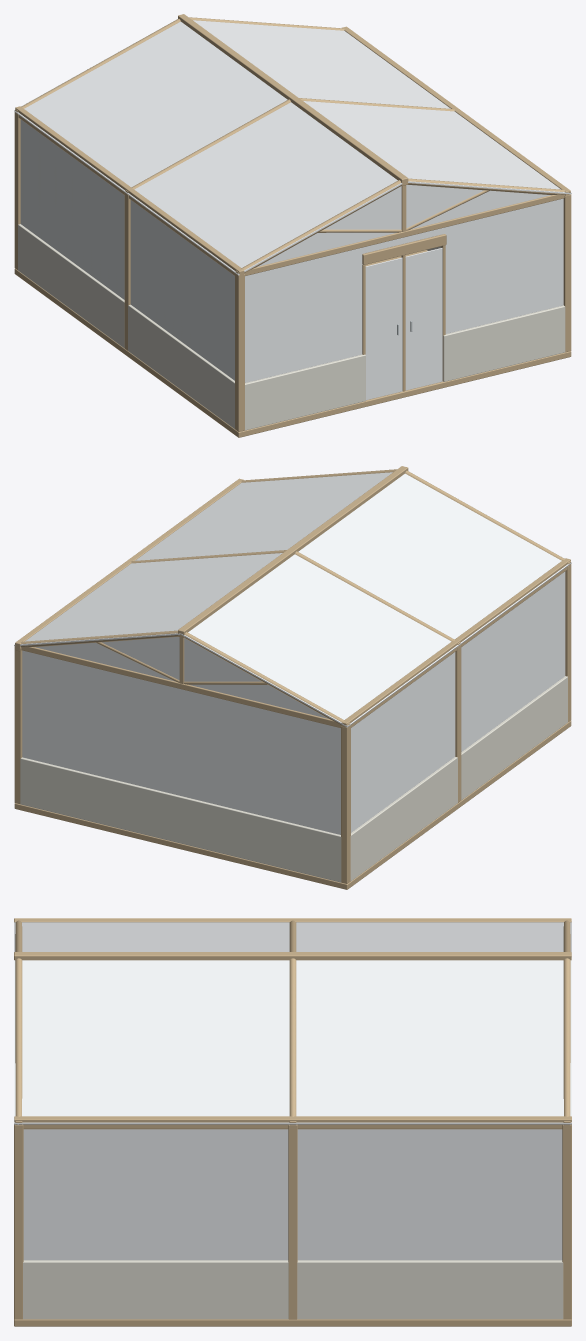
File: tabletop-hobby-store-and-club-club-gaming-room-shell-18c7fba9__31564.glb
3 views of the same model, one above another, from view 1: azimuth 30°, elevation 25°; view 2: azimuth 150°, elevation 25°; view 3: azimuth 270°, elevation 25° (orthographic). The views are drawn at different scales.
Parts seen in each view (by area): view 1: club-gaming-room-shell; view 2: club-gaming-room-shell; view 3: club-gaming-room-shell.
Part boxes in pixels (x1,y1,x2,y2): club-gaming-room-shell: (14, 14, 571, 437); club-gaming-room-shell: (14, 466, 571, 889); club-gaming-room-shell: (14, 918, 571, 1326).
Size of the model in its own units: 6.01 by 3.77 by 7.
